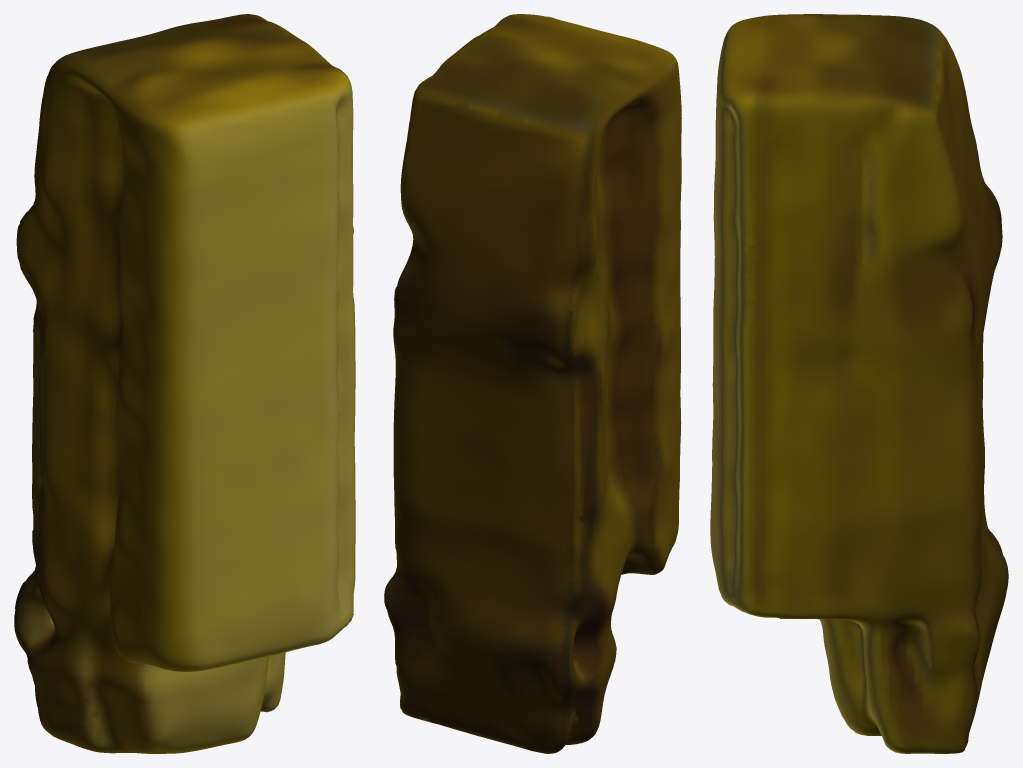
File: school_bus1.glb
3 renders of one model, left to right at view 1: azimuth 30°, elevation 25°; view 2: azimuth 150°, elevation 25°; view 3: azimuth 270°, elevation 25°, orthographic. The views are drawn at different scales.
Size of the model in its own units: 0.3378 by 0.9998 by 0.403.
